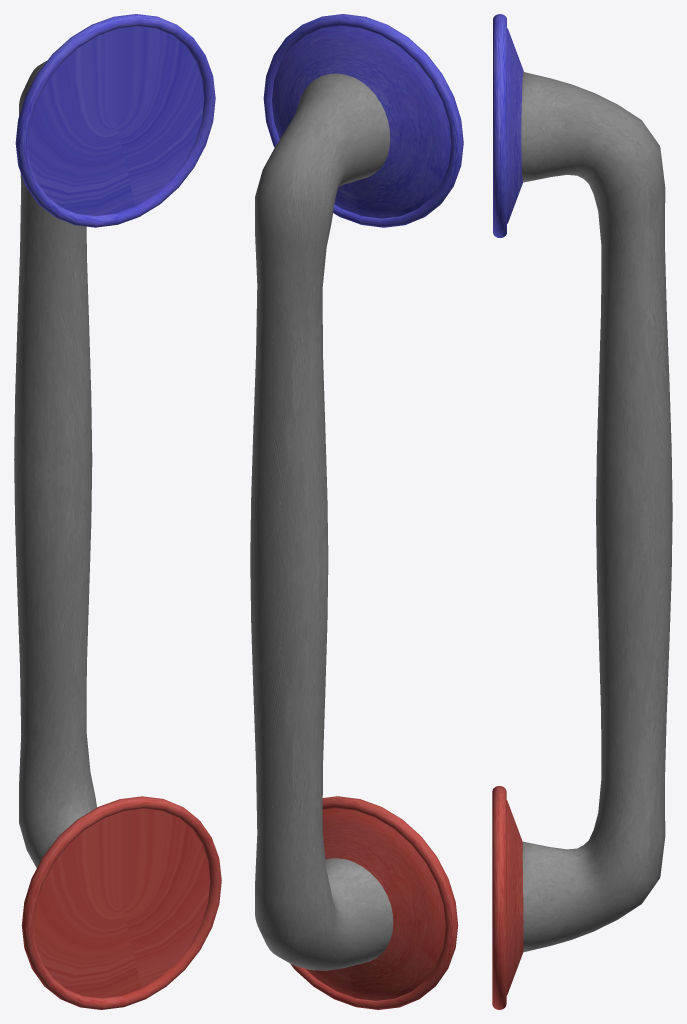
The model's file is sugekop.FBX.
3 renders of one model, left to right at view 1: azimuth 30°, elevation 25°; view 2: azimuth 150°, elevation 25°; view 3: azimuth 270°, elevation 25°, orthographic.
Visible parts, largest first — view 1: Cylinder03, Torus01, Torus02; view 2: Cylinder03, Torus01, Torus02; view 3: Cylinder03, Torus02, Torus01.
Boxes of the visible parts, bbox=[...] form: Cylinder03: bbox=[14, 61, 96, 867]; Torus01: bbox=[15, 14, 215, 227]; Torus02: bbox=[21, 796, 221, 1009]; Cylinder03: bbox=[250, 73, 393, 970]; Torus01: bbox=[263, 14, 463, 227]; Torus02: bbox=[290, 796, 458, 1009]; Cylinder03: bbox=[521, 72, 672, 952]; Torus02: bbox=[492, 786, 523, 1009]; Torus01: bbox=[493, 14, 523, 237].
Size of the model in its own units: 116 by 541 by 90.86.
